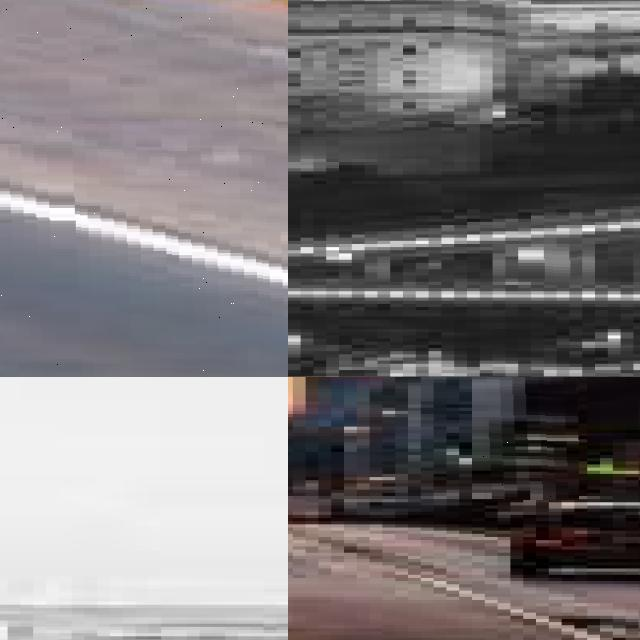street light: (0, 0, 288, 377), (473, 377, 579, 500), (549, 377, 640, 497), (530, 247, 578, 282), (608, 332, 627, 370), (288, 335, 300, 377)
